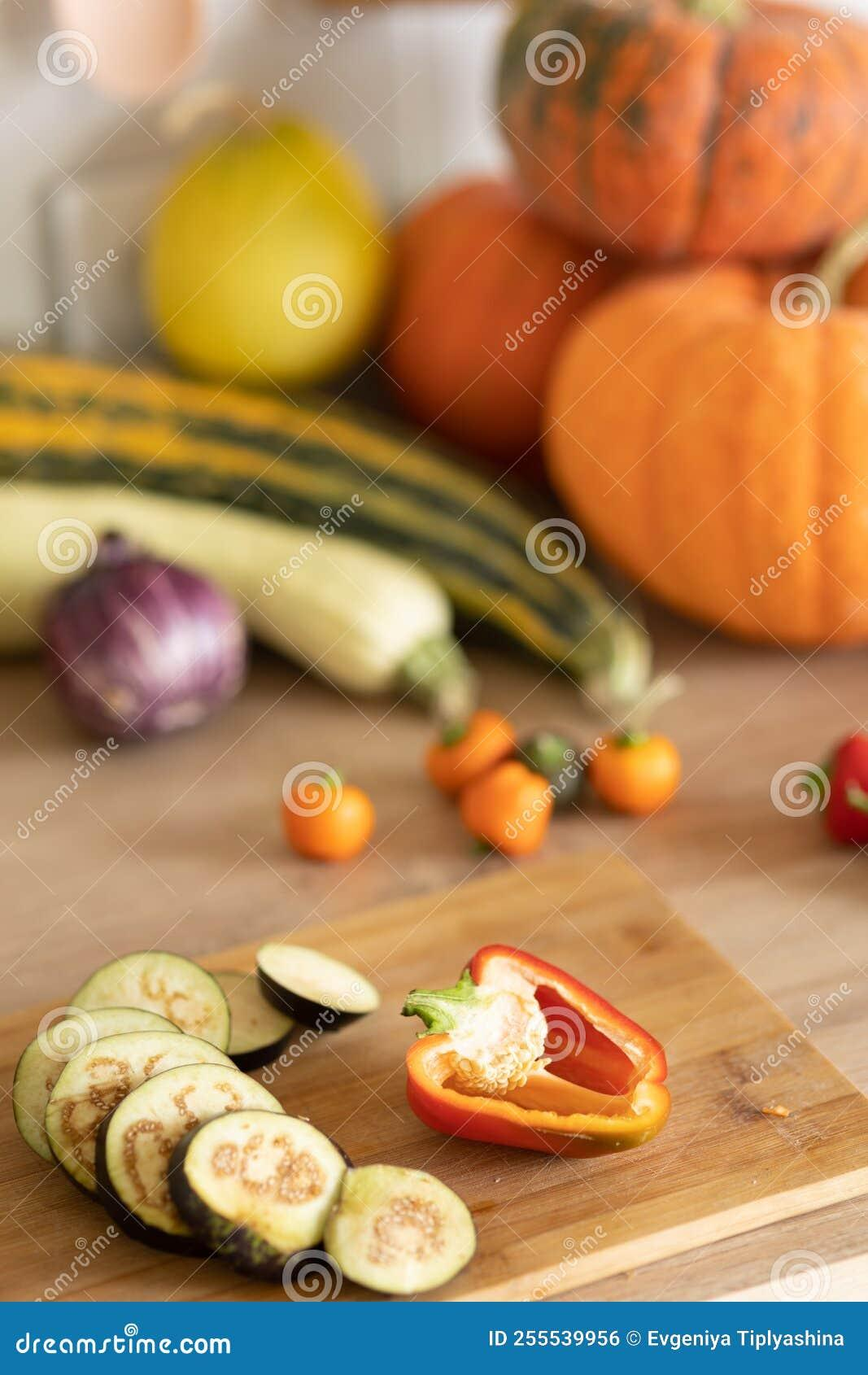pumkin: (401, 44, 844, 656)
